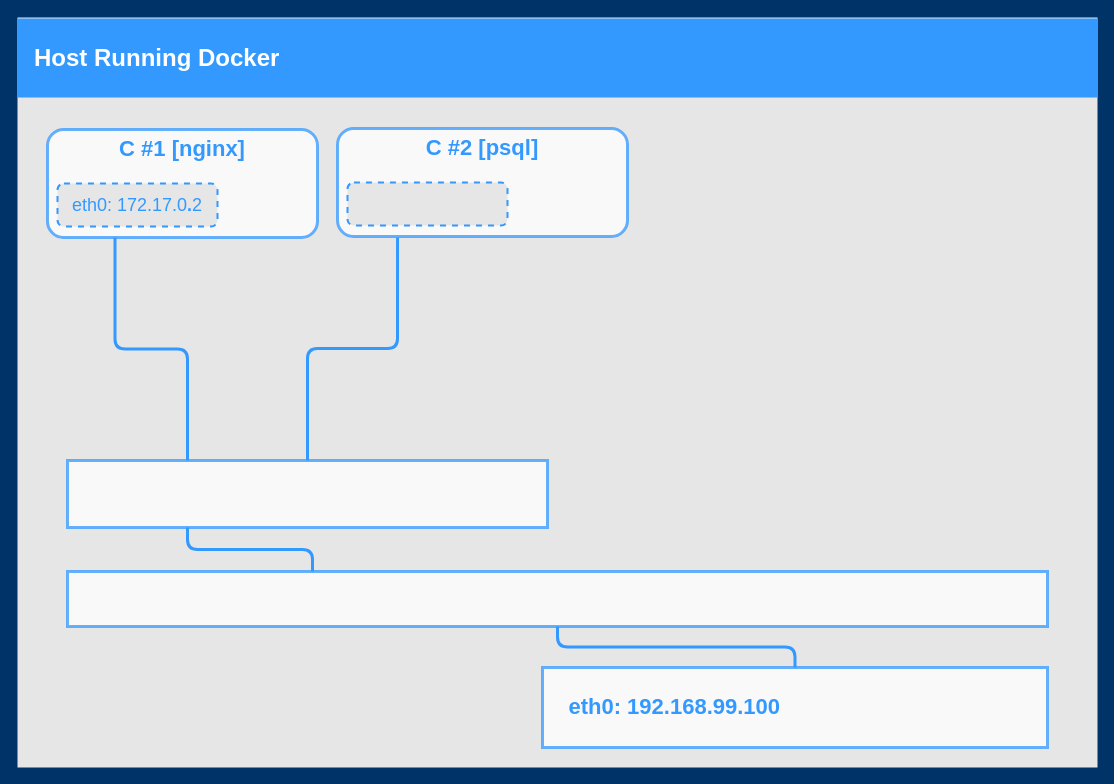
Some shapes in this 1114 by 784 pixel diagram are drawn without their labels. The centre of each missing label's shape, as x and y in pixels:
docker0: 172.17.0.0/16: (307,493)
eth0: 172.17.0 . 3: (427,203)
NAT Firewall: (557,599)
